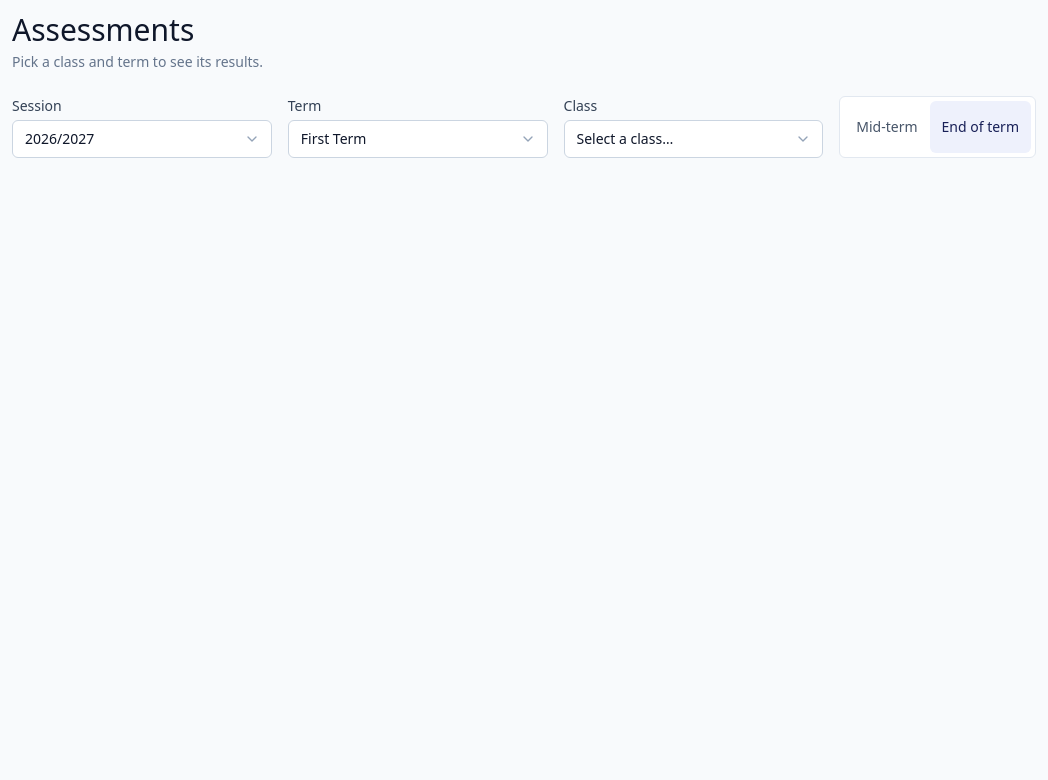
Test case: AdminResultsPanel › tracks the two scopes' published badges independently
The width and height of the screenshot is (1048, 780).
Select "Primary 1A" in the dropdown labelled "Class" at point(693, 139), box [564,120,823,158]
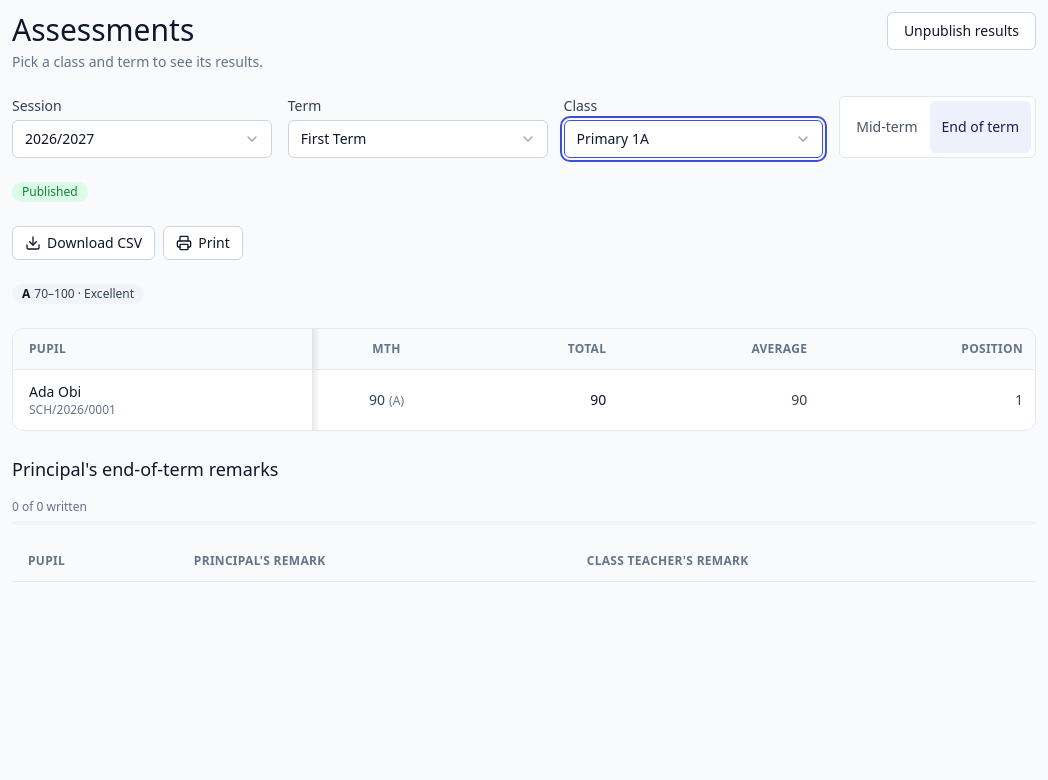
Check: the text "Published" is shown, box [12,182,88,202]
Click the radio button labelled "Mid-term" at point(887, 127), box [844,101,930,153]
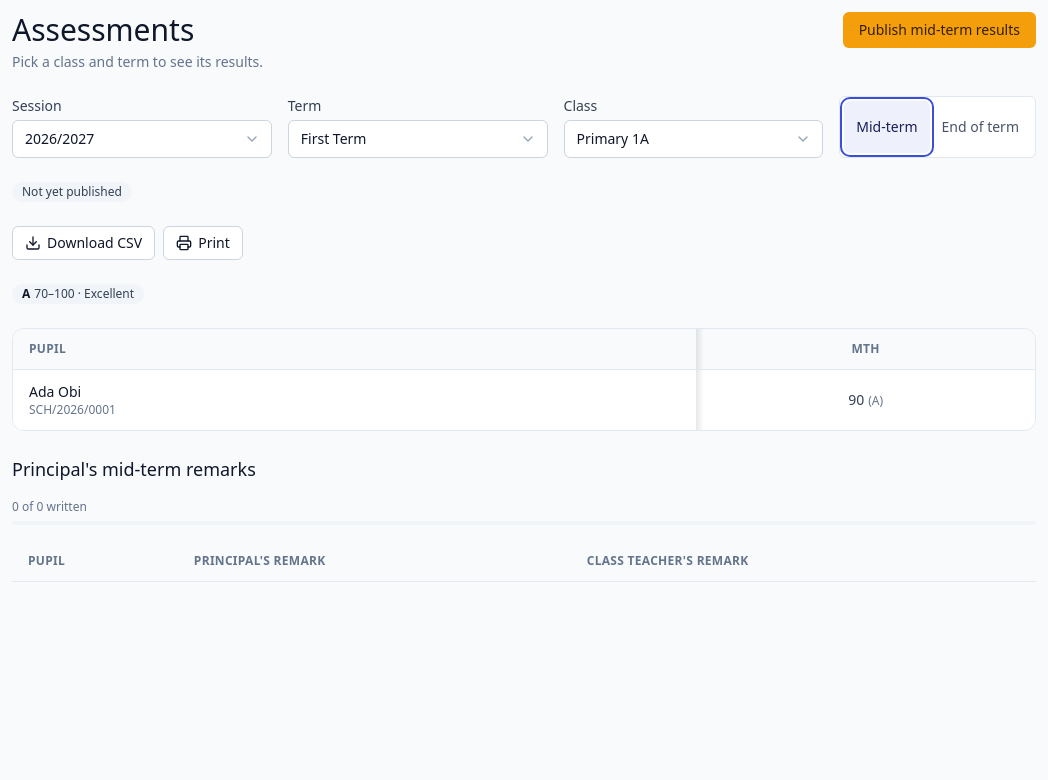
Check: the text "Not yet published" is shown, box [12,182,132,202]
